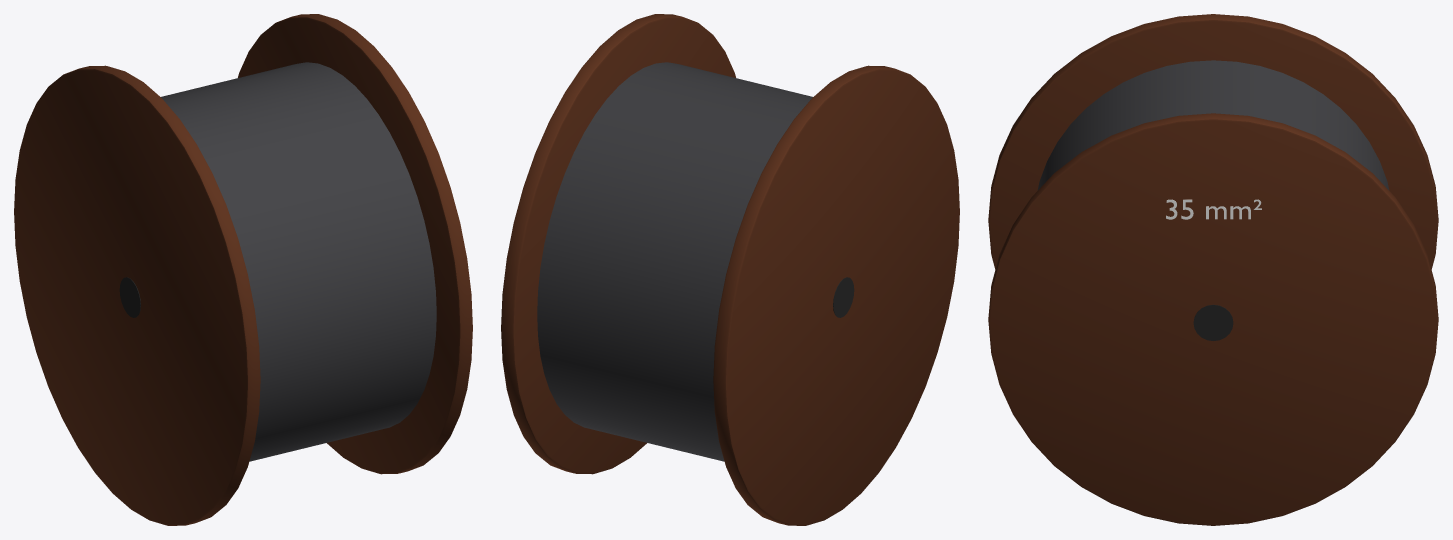
File: ELE-FIO-007_anim.glb
3 views of the same model, side by side, from view 1: azimuth 30°, elevation 25°; view 2: azimuth 150°, elevation 25°; view 3: azimuth 270°, elevation 25° (orthographic). The views are drawn at different scales.
Visible parts, largest first — view 1: ELE-FIO-007_anim0; view 2: ELE-FIO-007_anim0; view 3: ELE-FIO-007_anim0.
Part boxes in pixels (left/top/right/bottom): ELE-FIO-007_anim0: left=14, top=14, right=472, bottom=525; ELE-FIO-007_anim0: left=501, top=14, right=959, bottom=525; ELE-FIO-007_anim0: left=988, top=14, right=1438, bottom=525.
Bounding box in the file's own units: 0.502 × 0.9 × 0.9.
4 materials, 1 textured.
